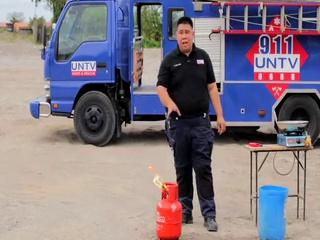Fire: (145, 159, 170, 196)
